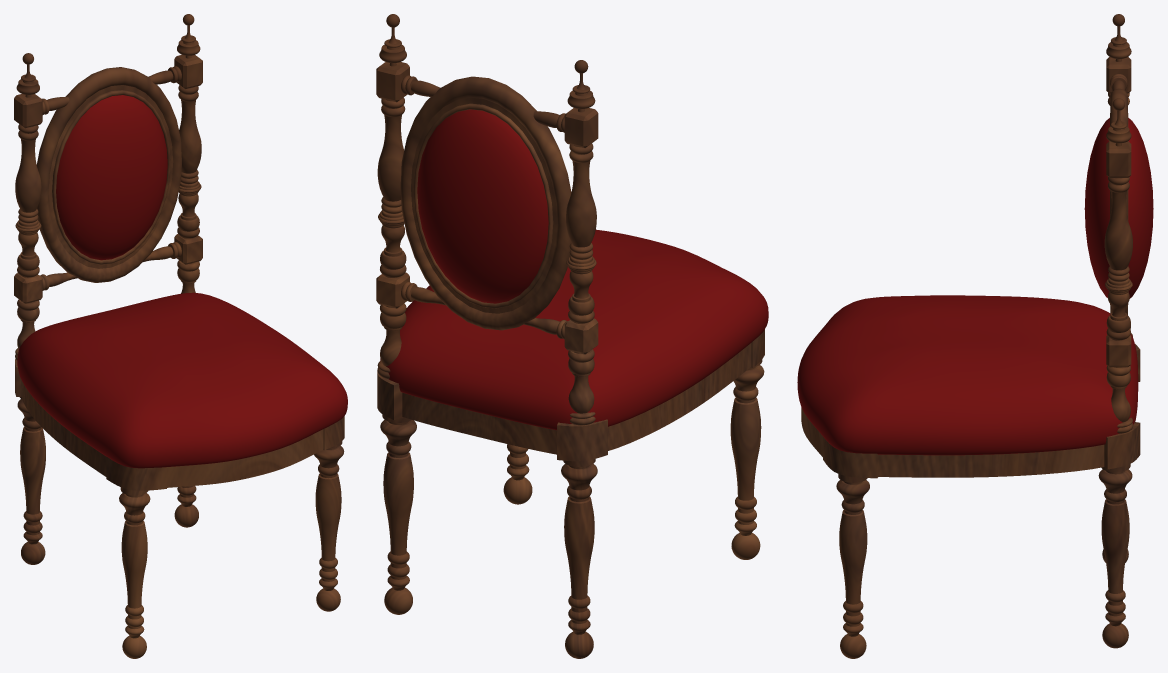
Rendered from silla.fbx.
The picture shows the model from 3 angles, left to right: view 1: azimuth 30°, elevation 25°; view 2: azimuth 150°, elevation 25°; view 3: azimuth 270°, elevation 25°; orthographic projection. The views are drawn at different scales.
Visible parts, largest first — view 1: chair; view 2: chair; view 3: chair.
Part boxes in pixels (x1,y1,x2,y2): chair: (14,14,347,658); chair: (376,14,768,658); chair: (797,14,1153,658).
Bounding box in the file's own units: 19.09 × 39.33 × 23.11.
Materials: 2 (1 with a texture image).
